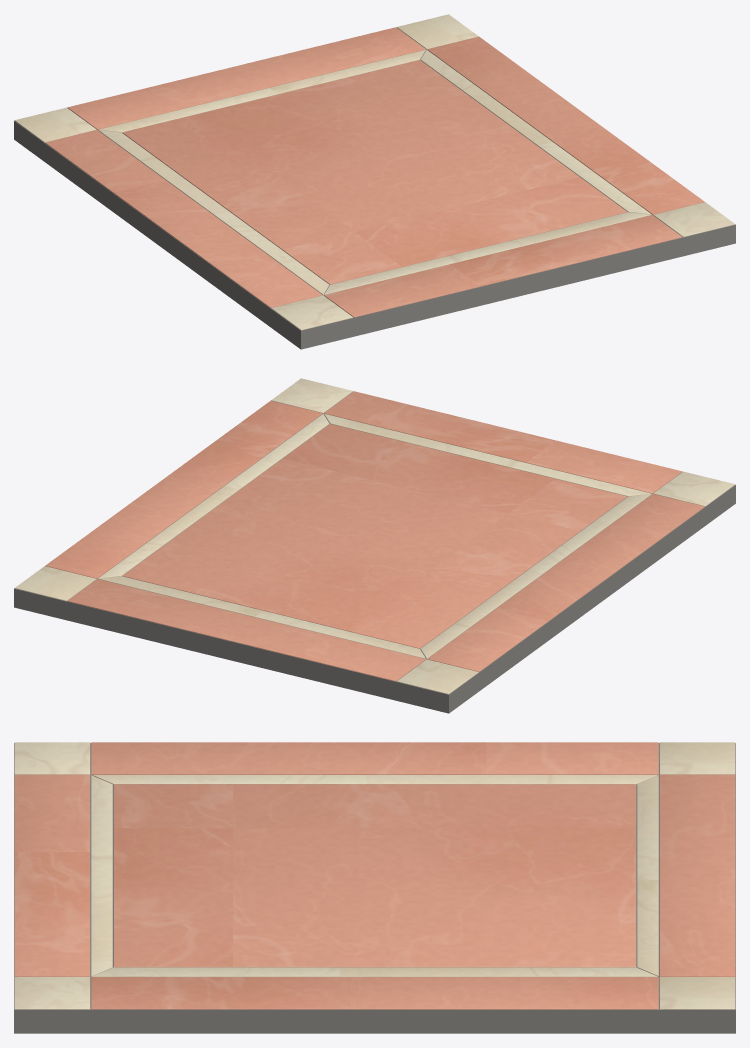
File: floor_KA-DB003.glb
3 views of the same model, one above another, from view 1: azimuth 30°, elevation 25°; view 2: azimuth 150°, elevation 25°; view 3: azimuth 270°, elevation 25° (orthographic). The views are drawn at different scales.
Visible parts, largest first — view 1: Floor; view 2: Floor; view 3: Floor.
Part boxes in pixels (box(x1,y1,x2,y2)): Floor: box(14, 14, 735, 349); Floor: box(14, 378, 735, 713); Floor: box(14, 742, 735, 1033).
Bounding box in the file's own units: 1.4 × 0.06 × 1.6.
Materials: 3 (2 with a texture image).
